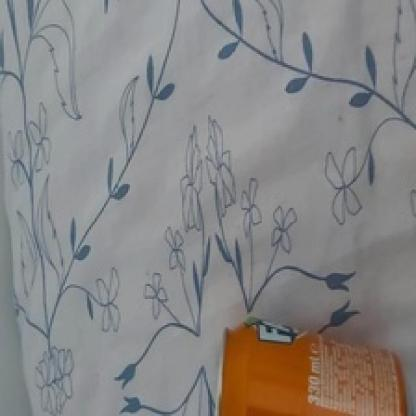Can: (218, 328, 410, 416)
